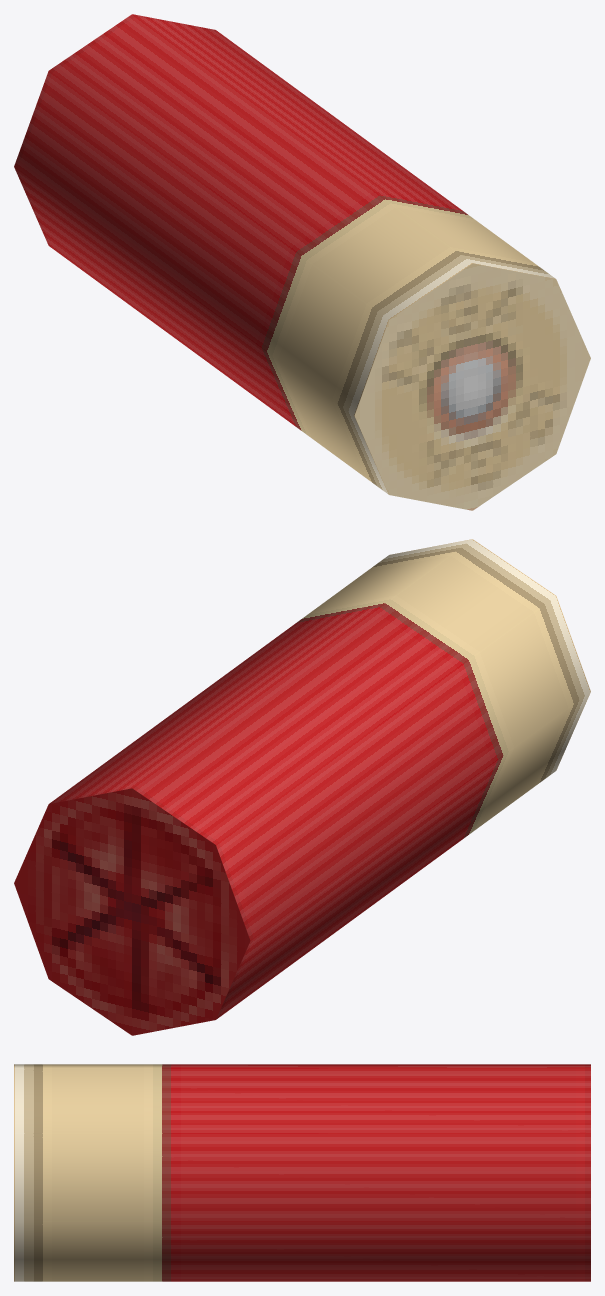
File: ShotgunShells.FBX
3 renders of one model, top to bottom at view 1: azimuth 30°, elevation 25°; view 2: azimuth 150°, elevation 25°; view 3: azimuth 270°, elevation 25°, orthographic. The views are drawn at different scales.
Parts seen in each view (by area): view 1: ShotGunShells; view 2: ShotGunShells; view 3: ShotGunShells.
Part boxes in pixels (bbox=[...]): ShotGunShells: bbox=[14, 14, 590, 510]; ShotGunShells: bbox=[14, 539, 590, 1035]; ShotGunShells: bbox=[14, 1064, 590, 1281].
Size of the model in its own units: 0.0361 by 0.0361 by 0.09.
